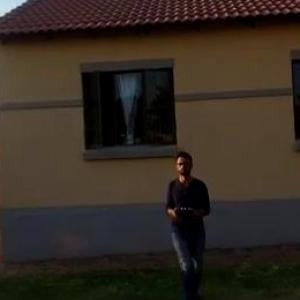follow: (154, 152, 214, 299)
